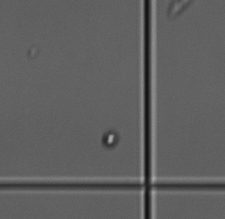Living Cell: (101, 129, 118, 148)
